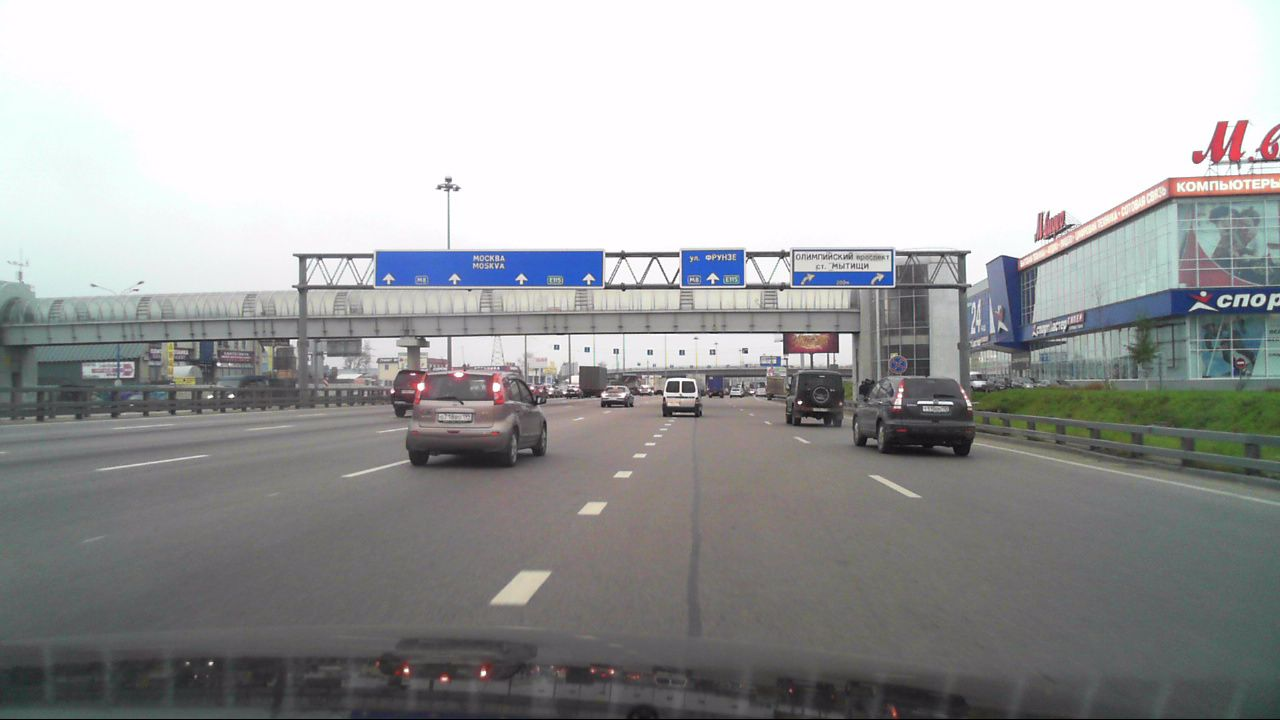No Parking: (887, 354, 908, 373)
